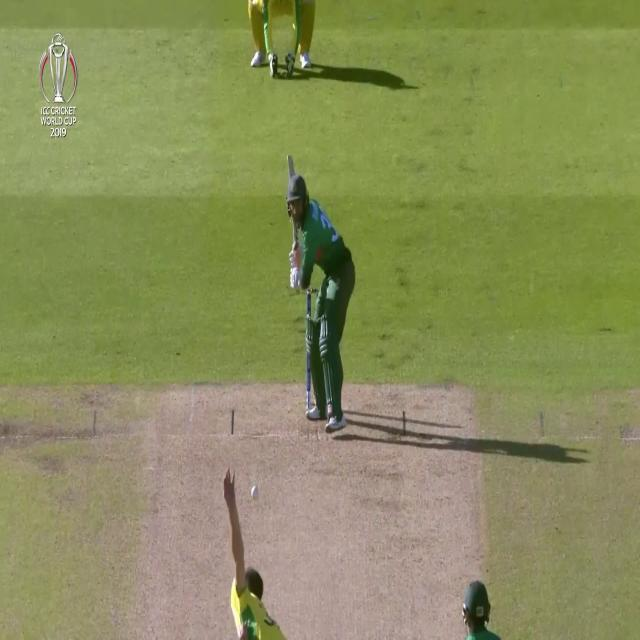ball: (250, 481, 261, 501)
